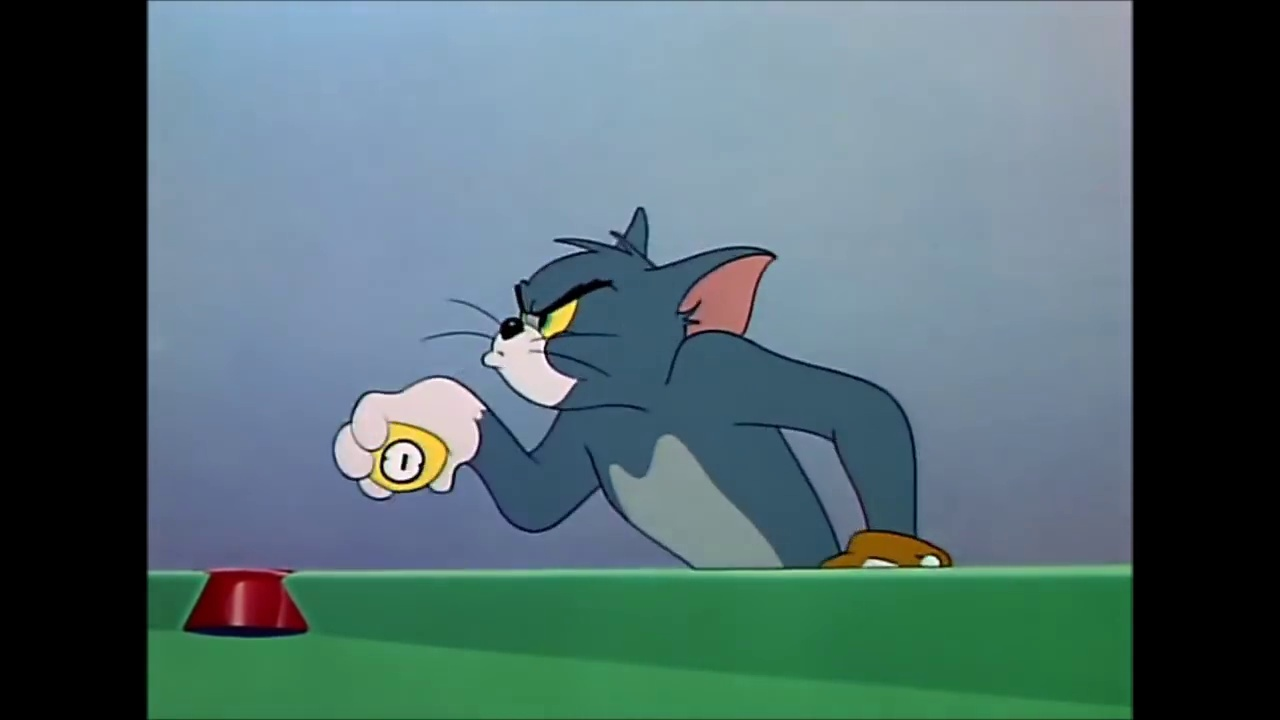angry: (486, 277, 627, 407)
